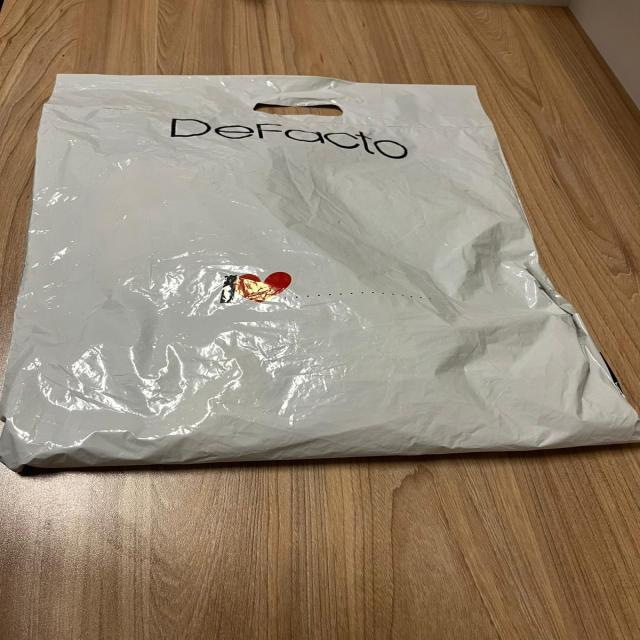good_package: (2, 72, 637, 479)
